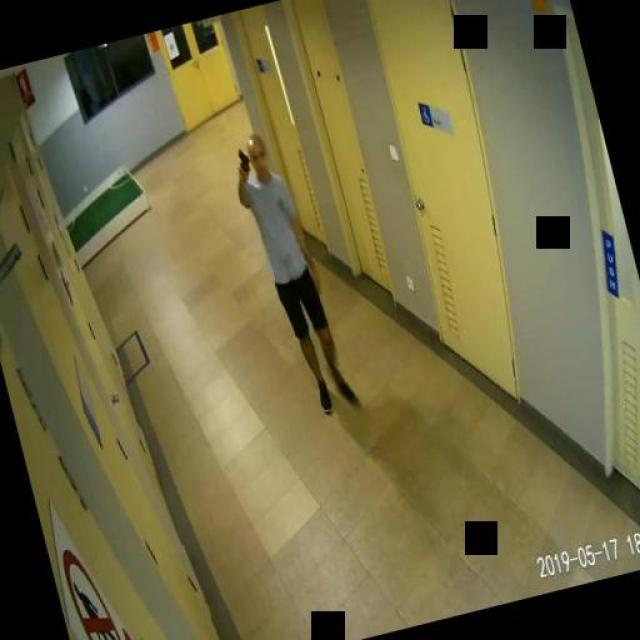gun: (234, 146, 252, 179)
